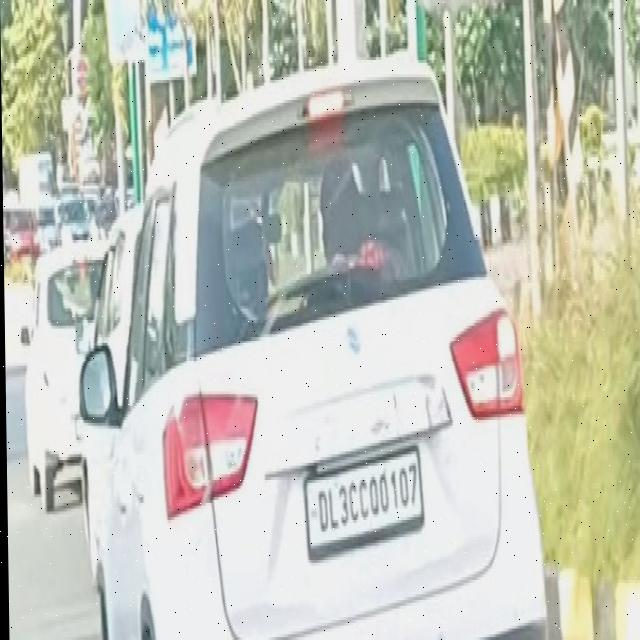plate: (300, 443, 423, 557)
